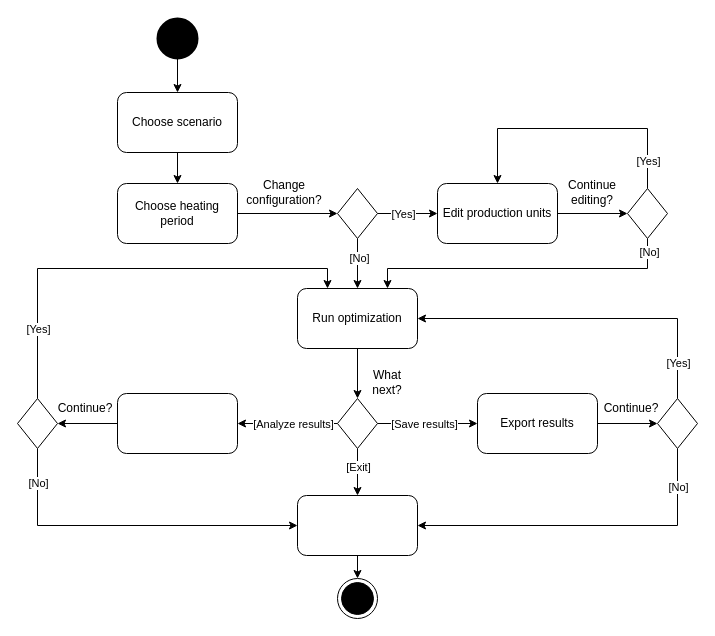
Image size: 715x636. Some labels were removed from this diagram. The shapes that lost their labels are listed below. From the top down, each one's centre as x and y in pixels, then its label:
pixel 177 423: View charts
pixel 357 525: Exit application
